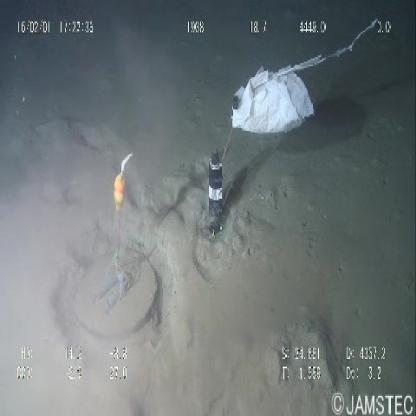Rov: (74, 144, 228, 346)
Rác: (228, 12, 380, 137)
